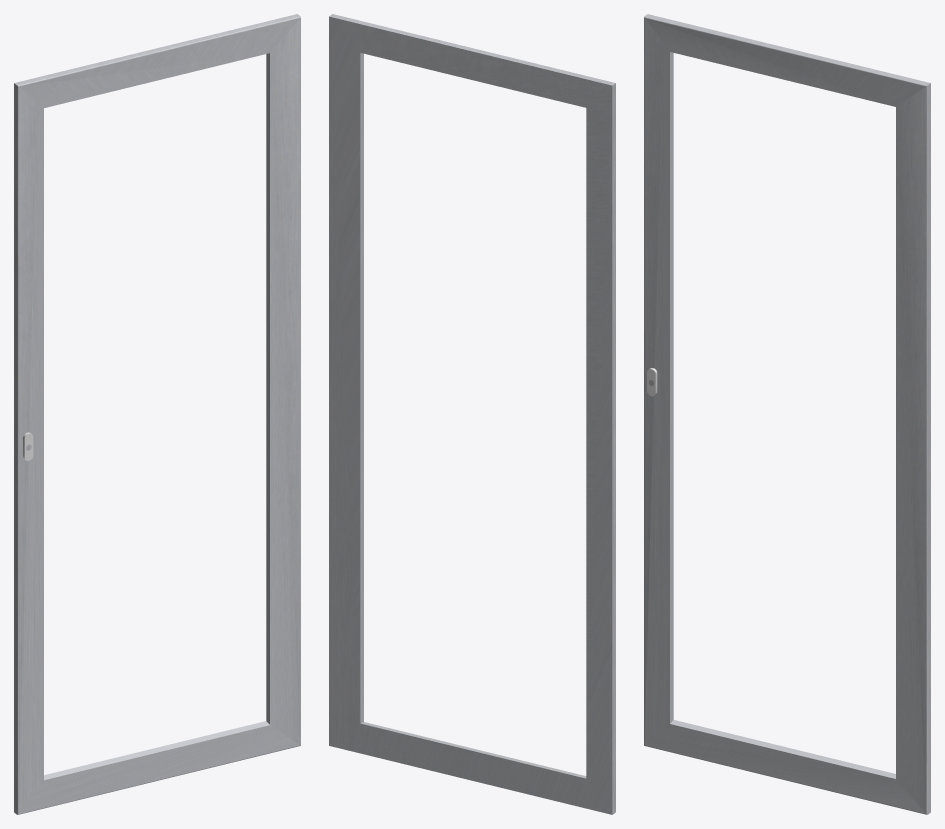
Rendered from SM_Window_Right.dae.
The picture shows the model from 3 angles, left to right: view 1: azimuth 30°, elevation 25°; view 2: azimuth 150°, elevation 25°; view 3: azimuth 330°, elevation 25°; orthographic projection.
Parts seen in each view (by area): view 1: SM_Window_Right; view 2: SM_Window_Right; view 3: SM_Window_Right.
Boxes of the visible parts, box(x1,y1,x2,y2) form: SM_Window_Right: box(14, 14, 300, 814); SM_Window_Right: box(329, 14, 615, 814); SM_Window_Right: box(644, 14, 930, 814).
Size of the model in its own units: 0.8434 by 0.0285 by 2.07.
